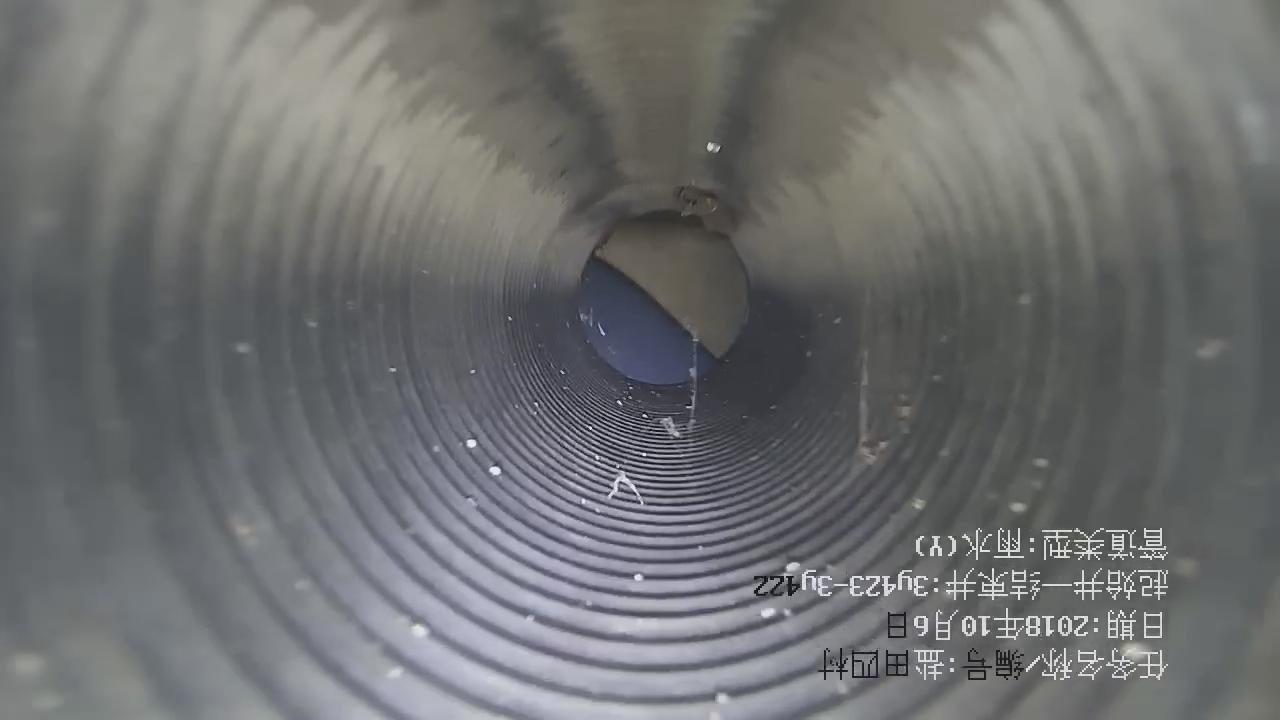YWCR: (577, 256, 718, 386)
